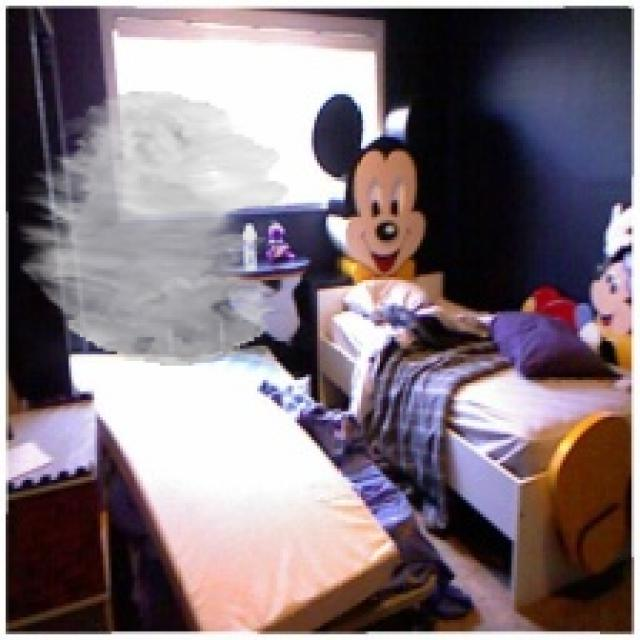smoke: (17, 91, 289, 366)
